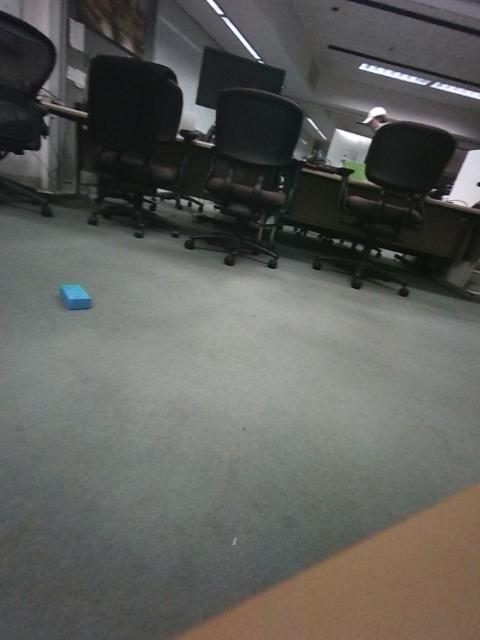block: (110, 290, 171, 327)
